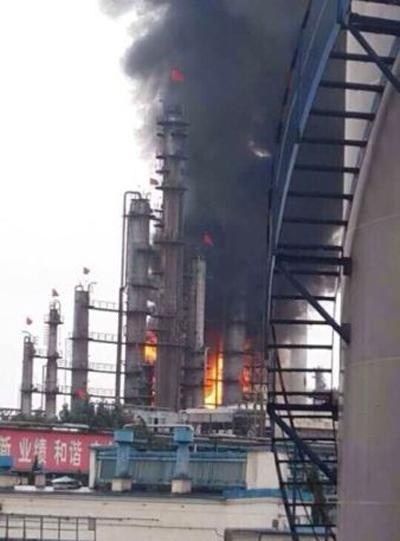fire: (200, 346, 225, 404), (141, 331, 159, 363)
